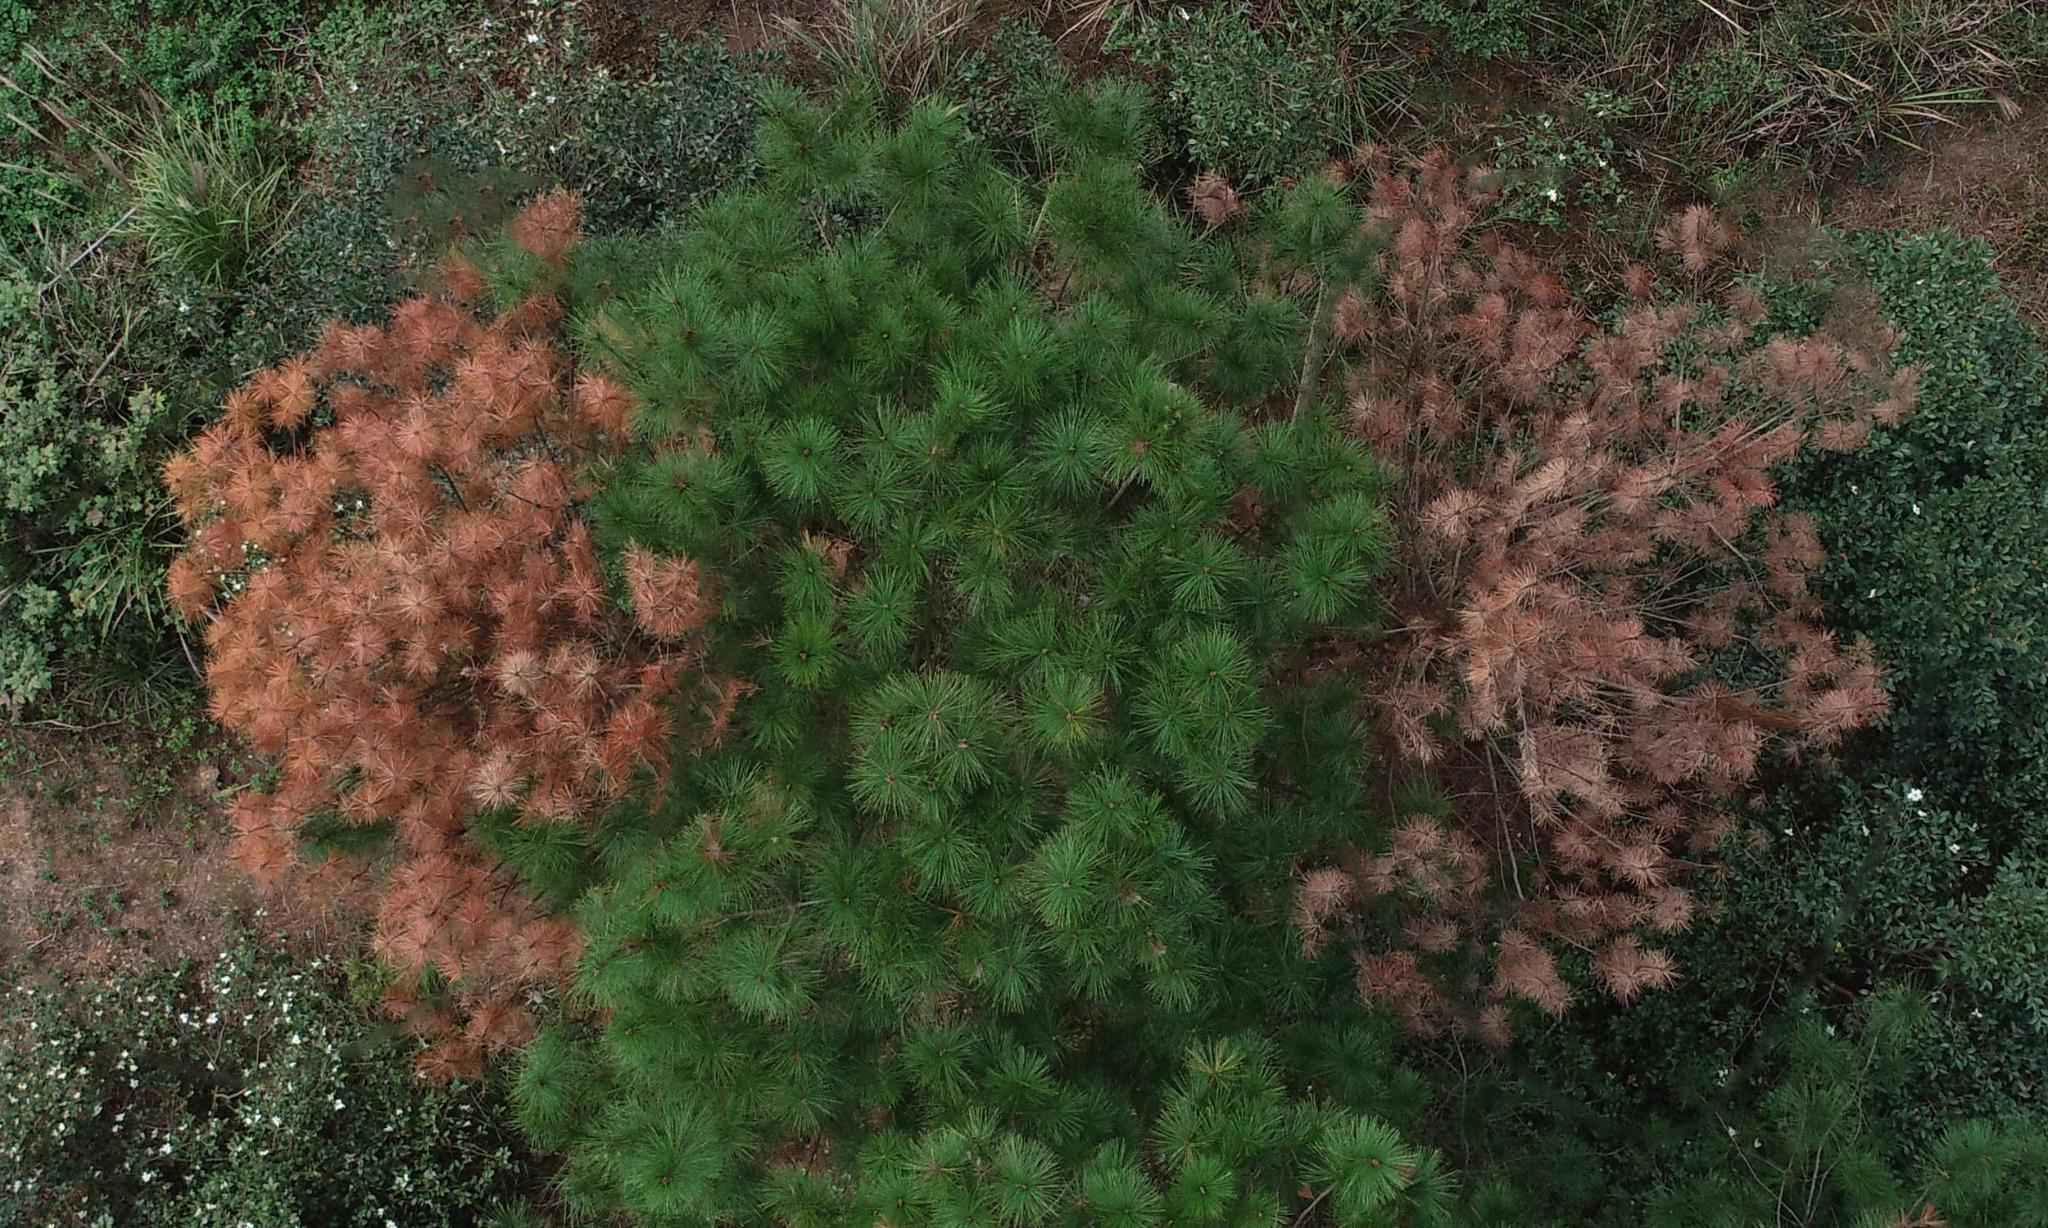heavy: (1314, 153, 1897, 1020), (136, 221, 637, 1047)
